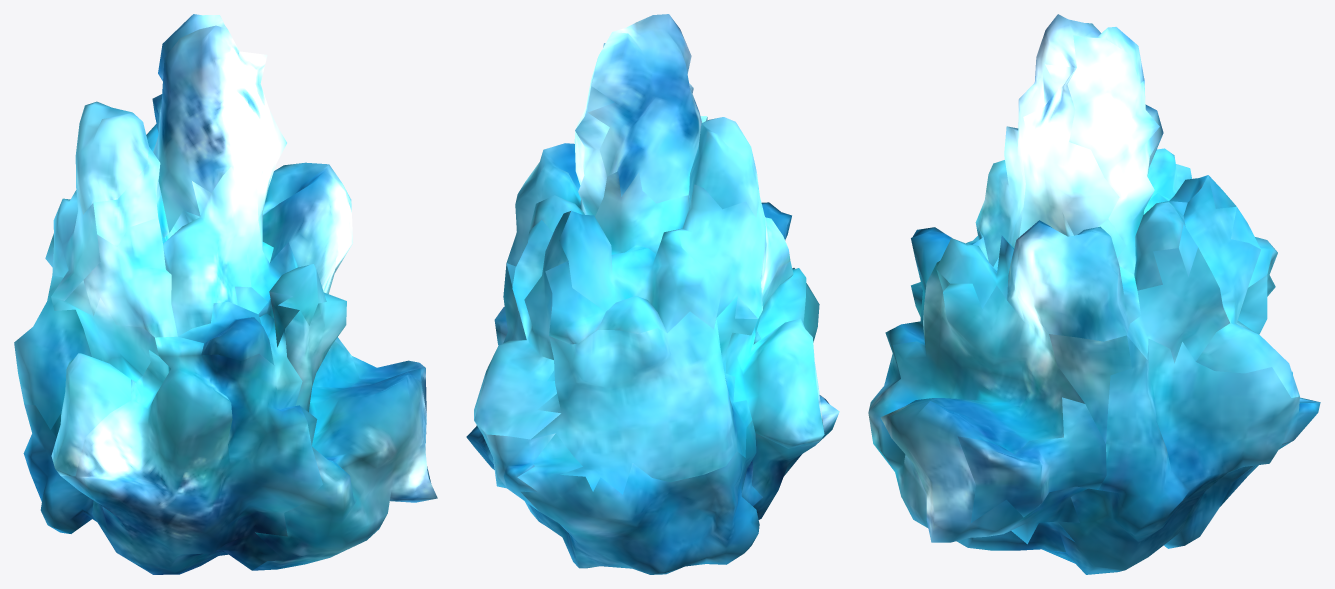
File: crystal-haiku_cosmos_01.glb
The picture shows the model from 3 angles, left to right: view 1: azimuth 30°, elevation 25°; view 2: azimuth 150°, elevation 25°; view 3: azimuth 270°, elevation 25°; orthographic projection. The views are drawn at different scales.
Visible parts, largest first — view 1: mesh_node.002; view 2: mesh_node.002; view 3: mesh_node.002.
Part boxes in pixels (x1,y1,x2,y2): mesh_node.002: [14, 14, 437, 574]; mesh_node.002: [466, 14, 839, 574]; mesh_node.002: [868, 14, 1320, 574].
Bounding box in the file's own units: 0.3174 × 0.4639 × 0.3643.
Materials: 1 (1 with a texture image).
